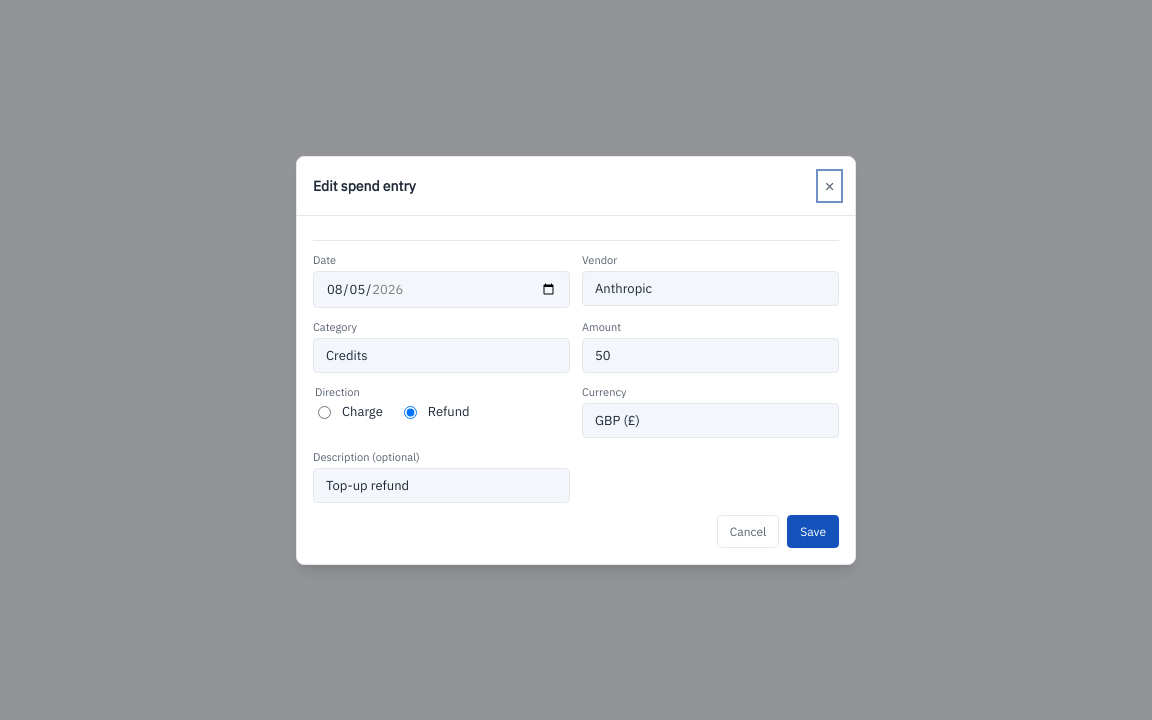
Test case: SpendEntryModal editing an existing entry › shows the server message and stays open when the update fails
This screenshot has width=1152, height=720.
Replace the text in the number field labelled "Amount" with "75": (710, 355) [582, 338, 839, 372]
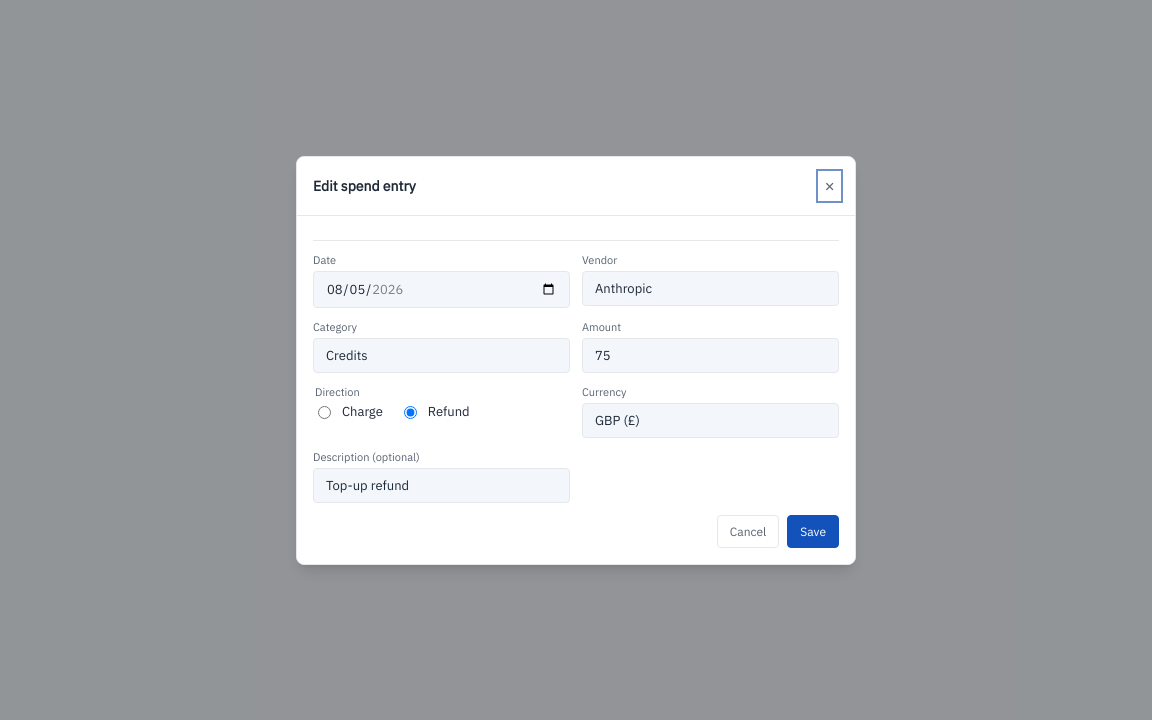
Click the button "Save": click(813, 531) [787, 514, 839, 548]
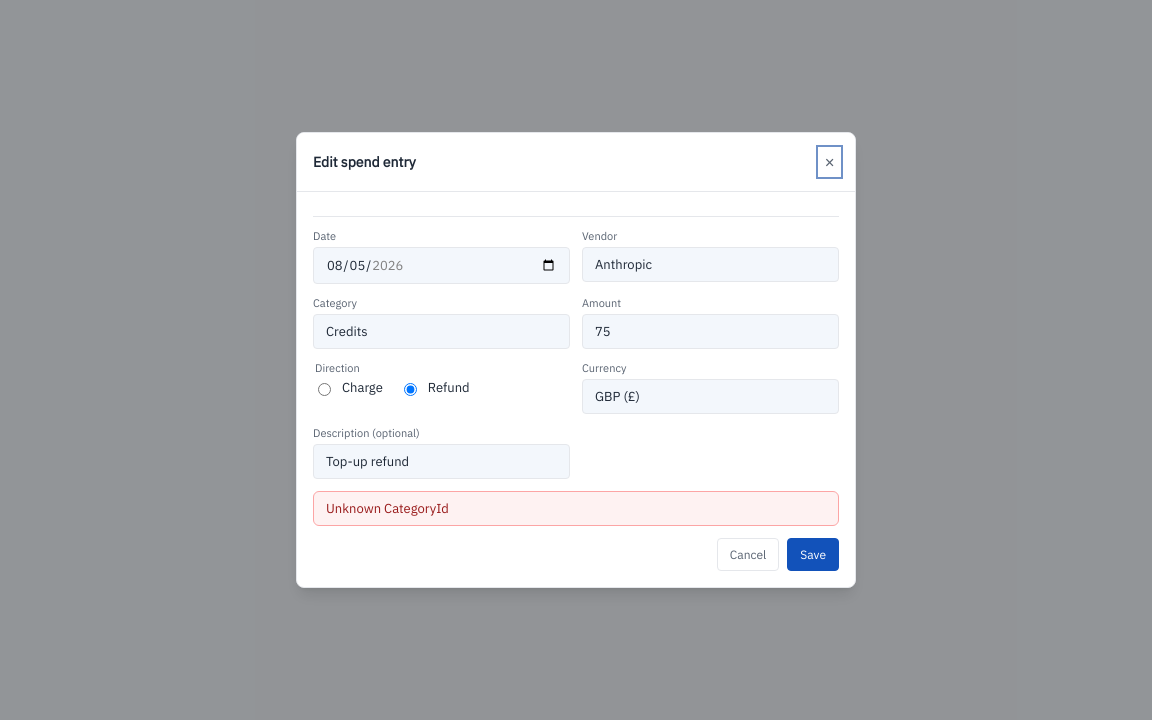
Result: the message reads "Unknown CategoryId" at [326, 500, 449, 517]
